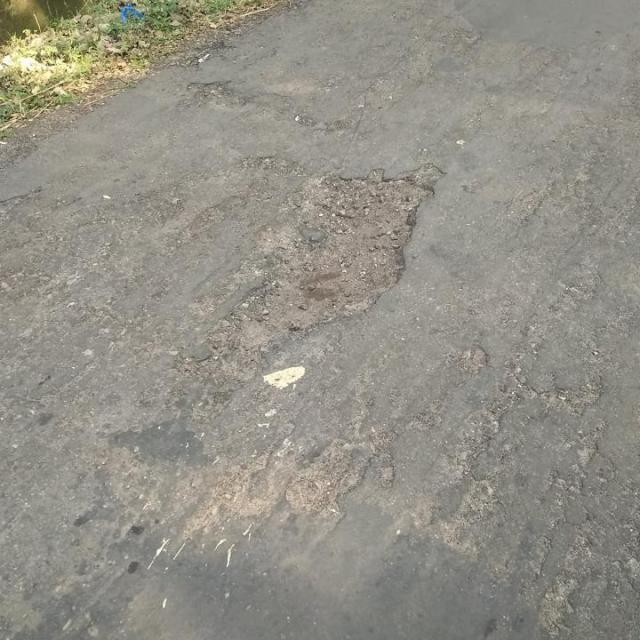pothole: (223, 161, 444, 350), (184, 75, 238, 106)
